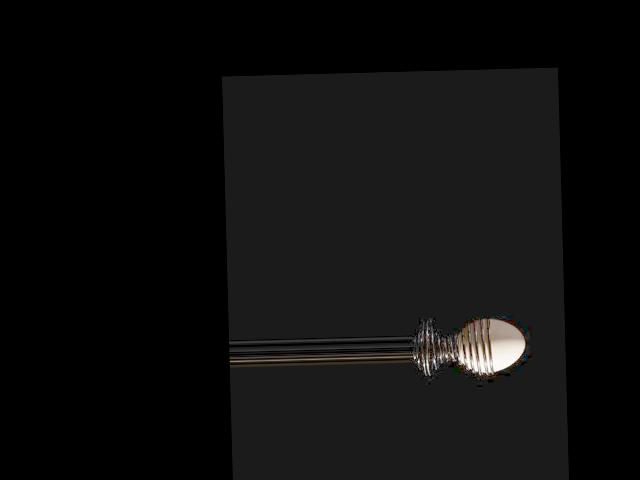egg: (457, 318, 525, 373)
